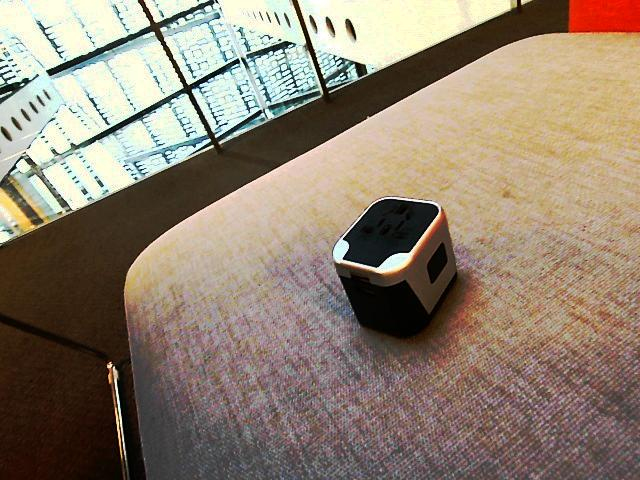adapter: (330, 195, 458, 337)
